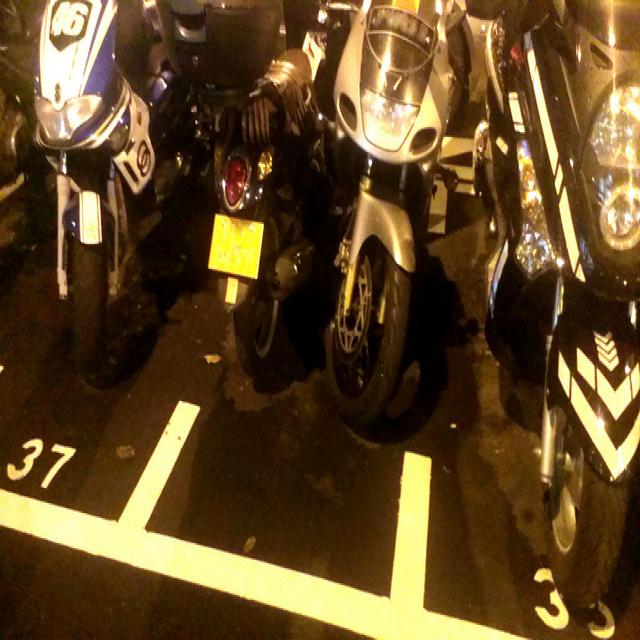motor: (461, 0, 640, 615), (35, 3, 285, 397), (322, 3, 474, 433), (207, 4, 365, 366)
